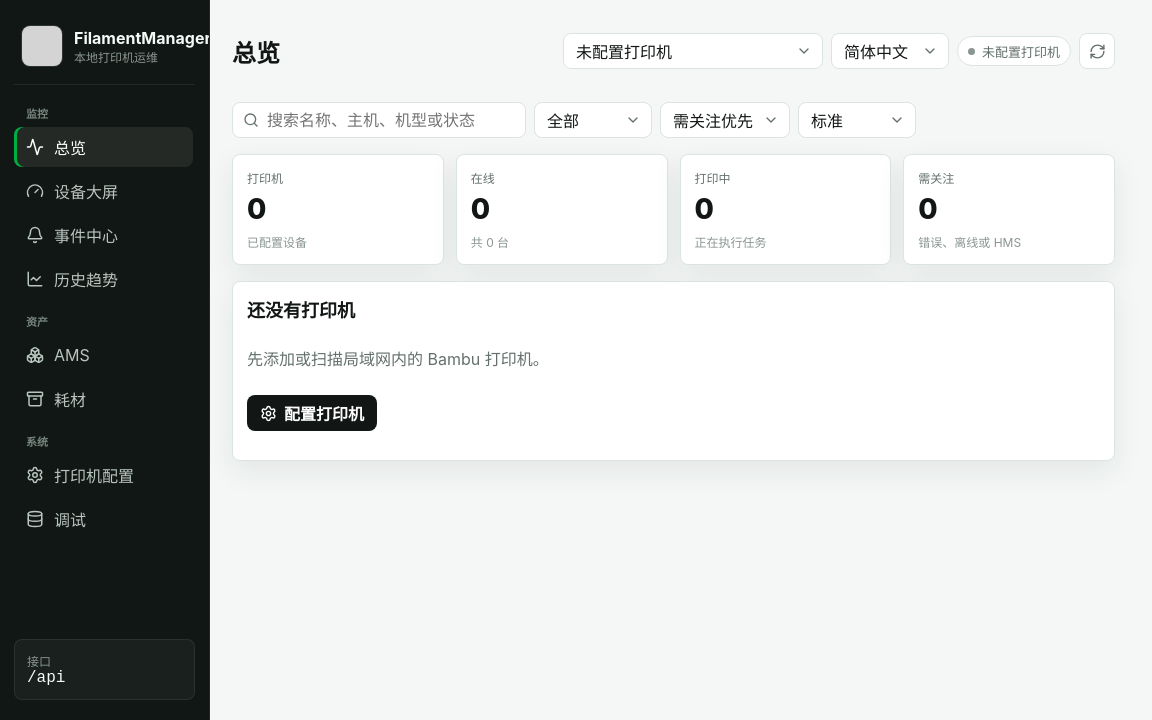
Test: App › switches views through the sidebar
Click the button with class "nav-item" showing "打印机配置": {"x": 104, "y": 475} [14, 455, 193, 495]
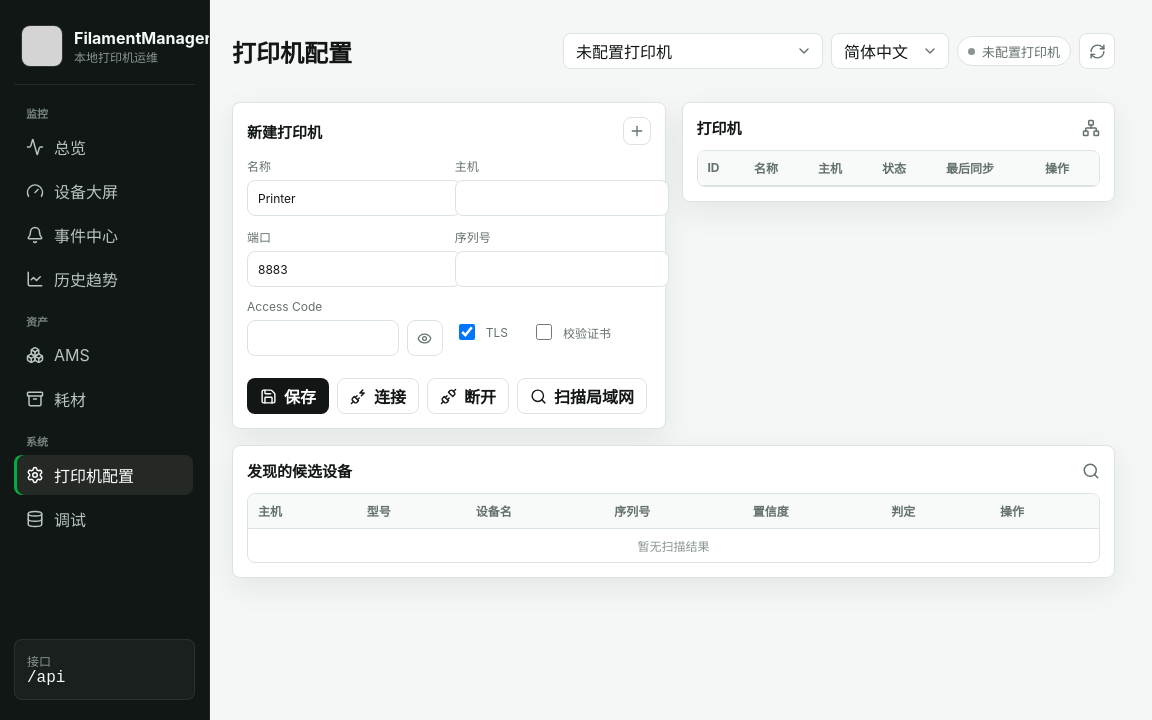
Expected: the heading "打印机配置" is shown, [232, 34, 352, 68]
